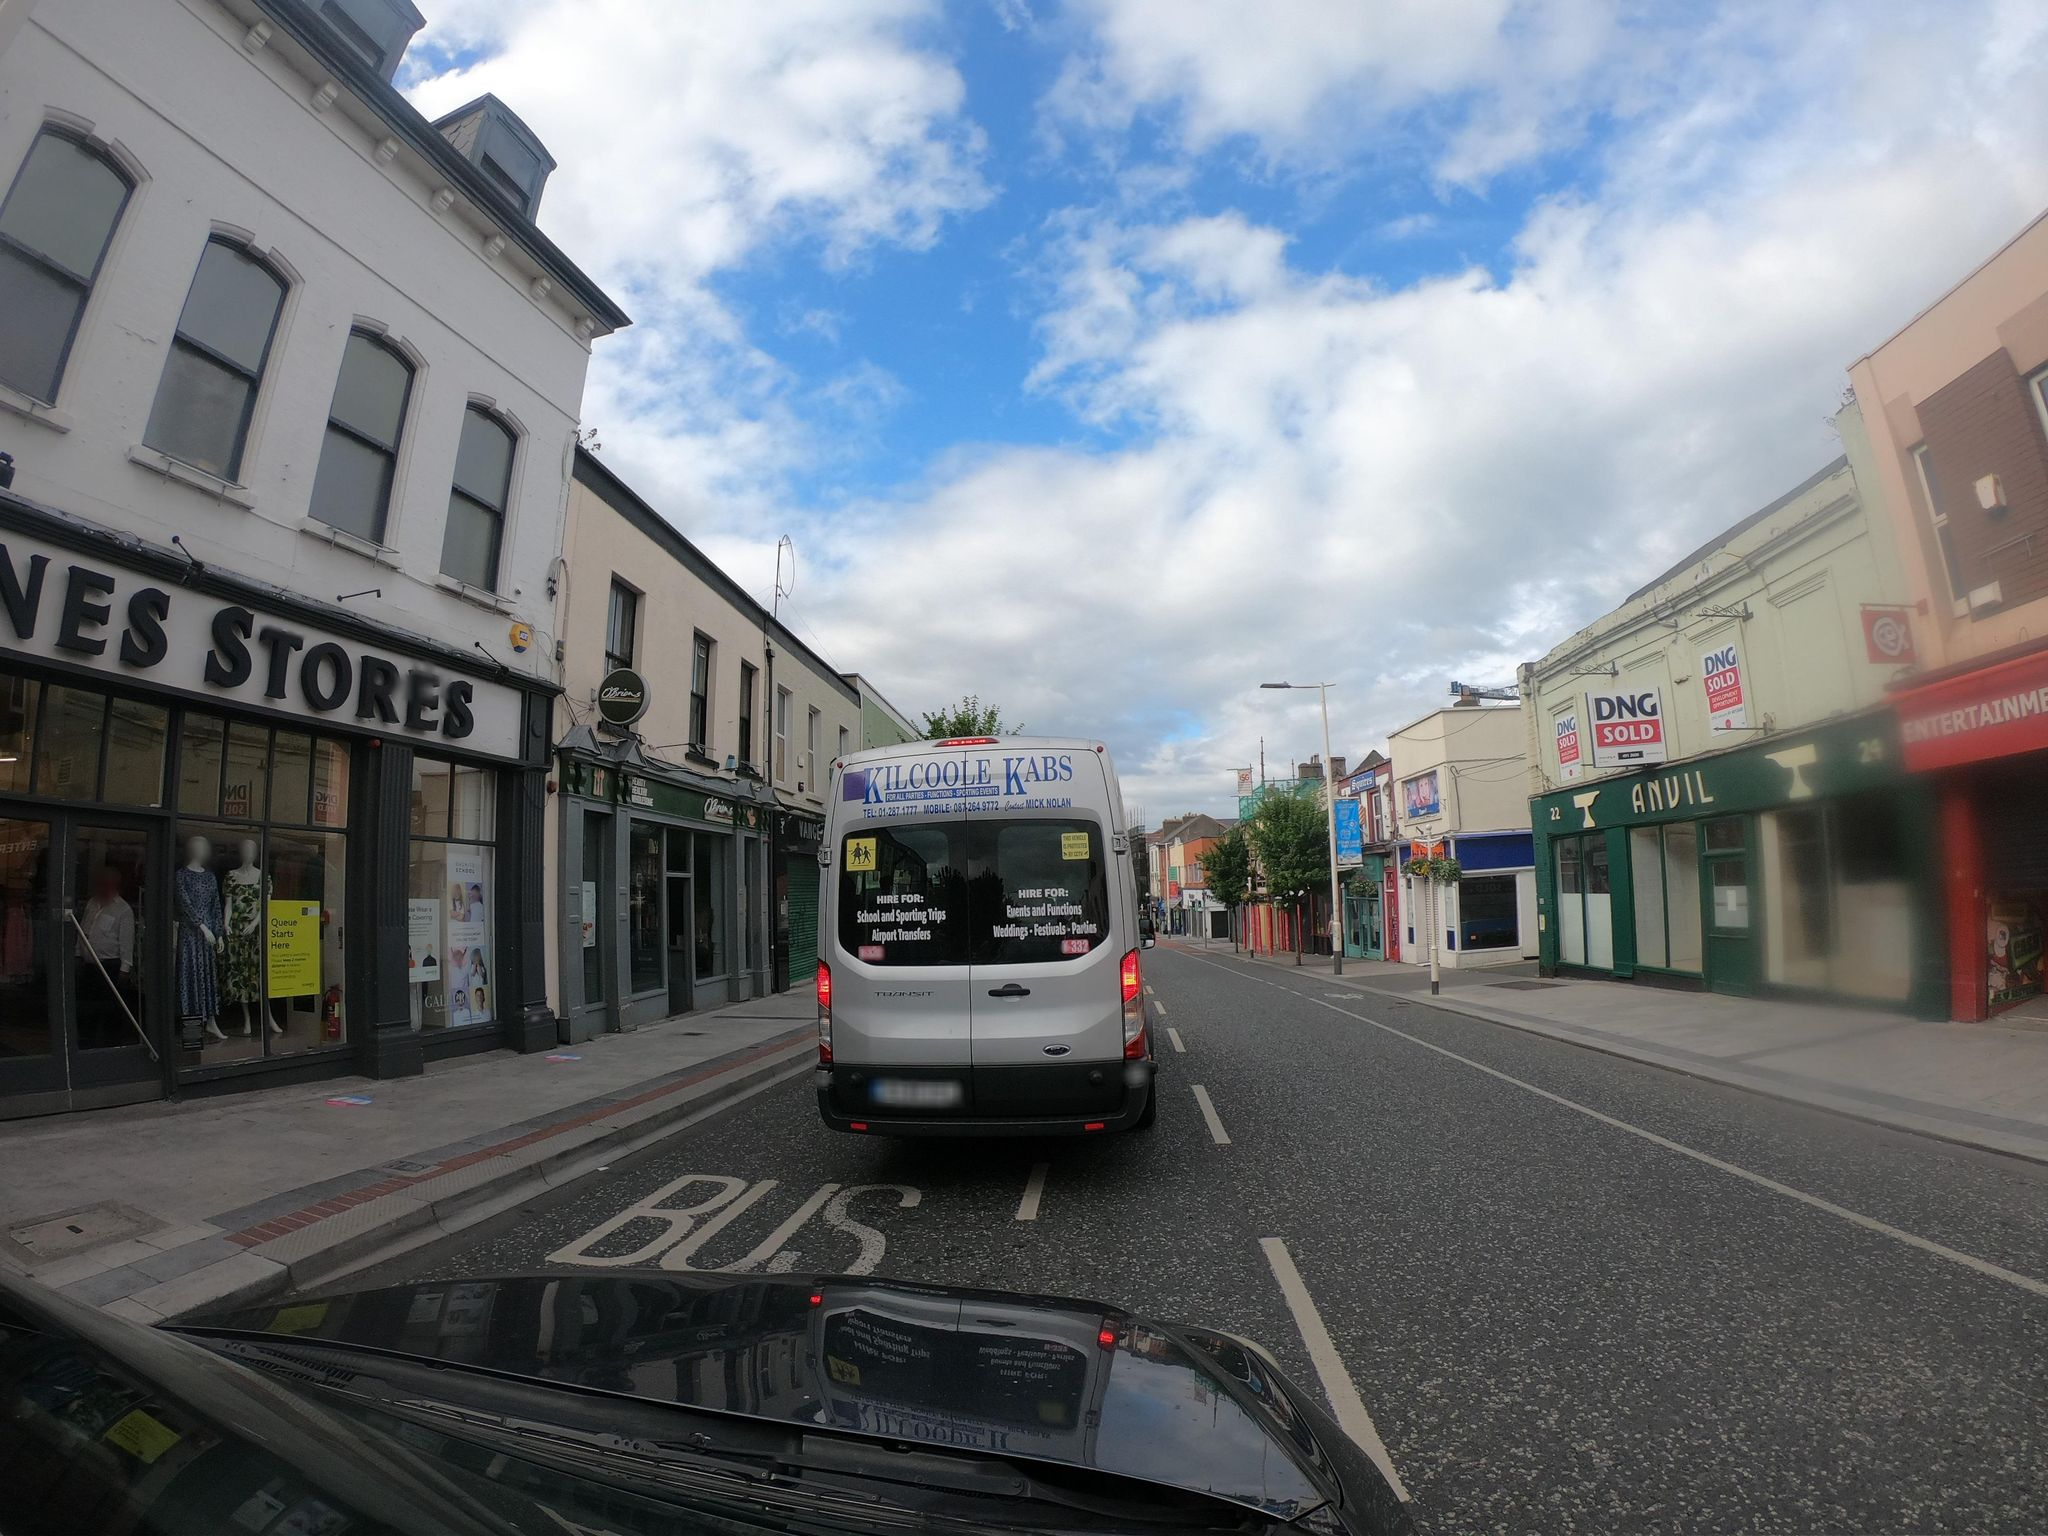property sign: (1561, 670, 1700, 779)
